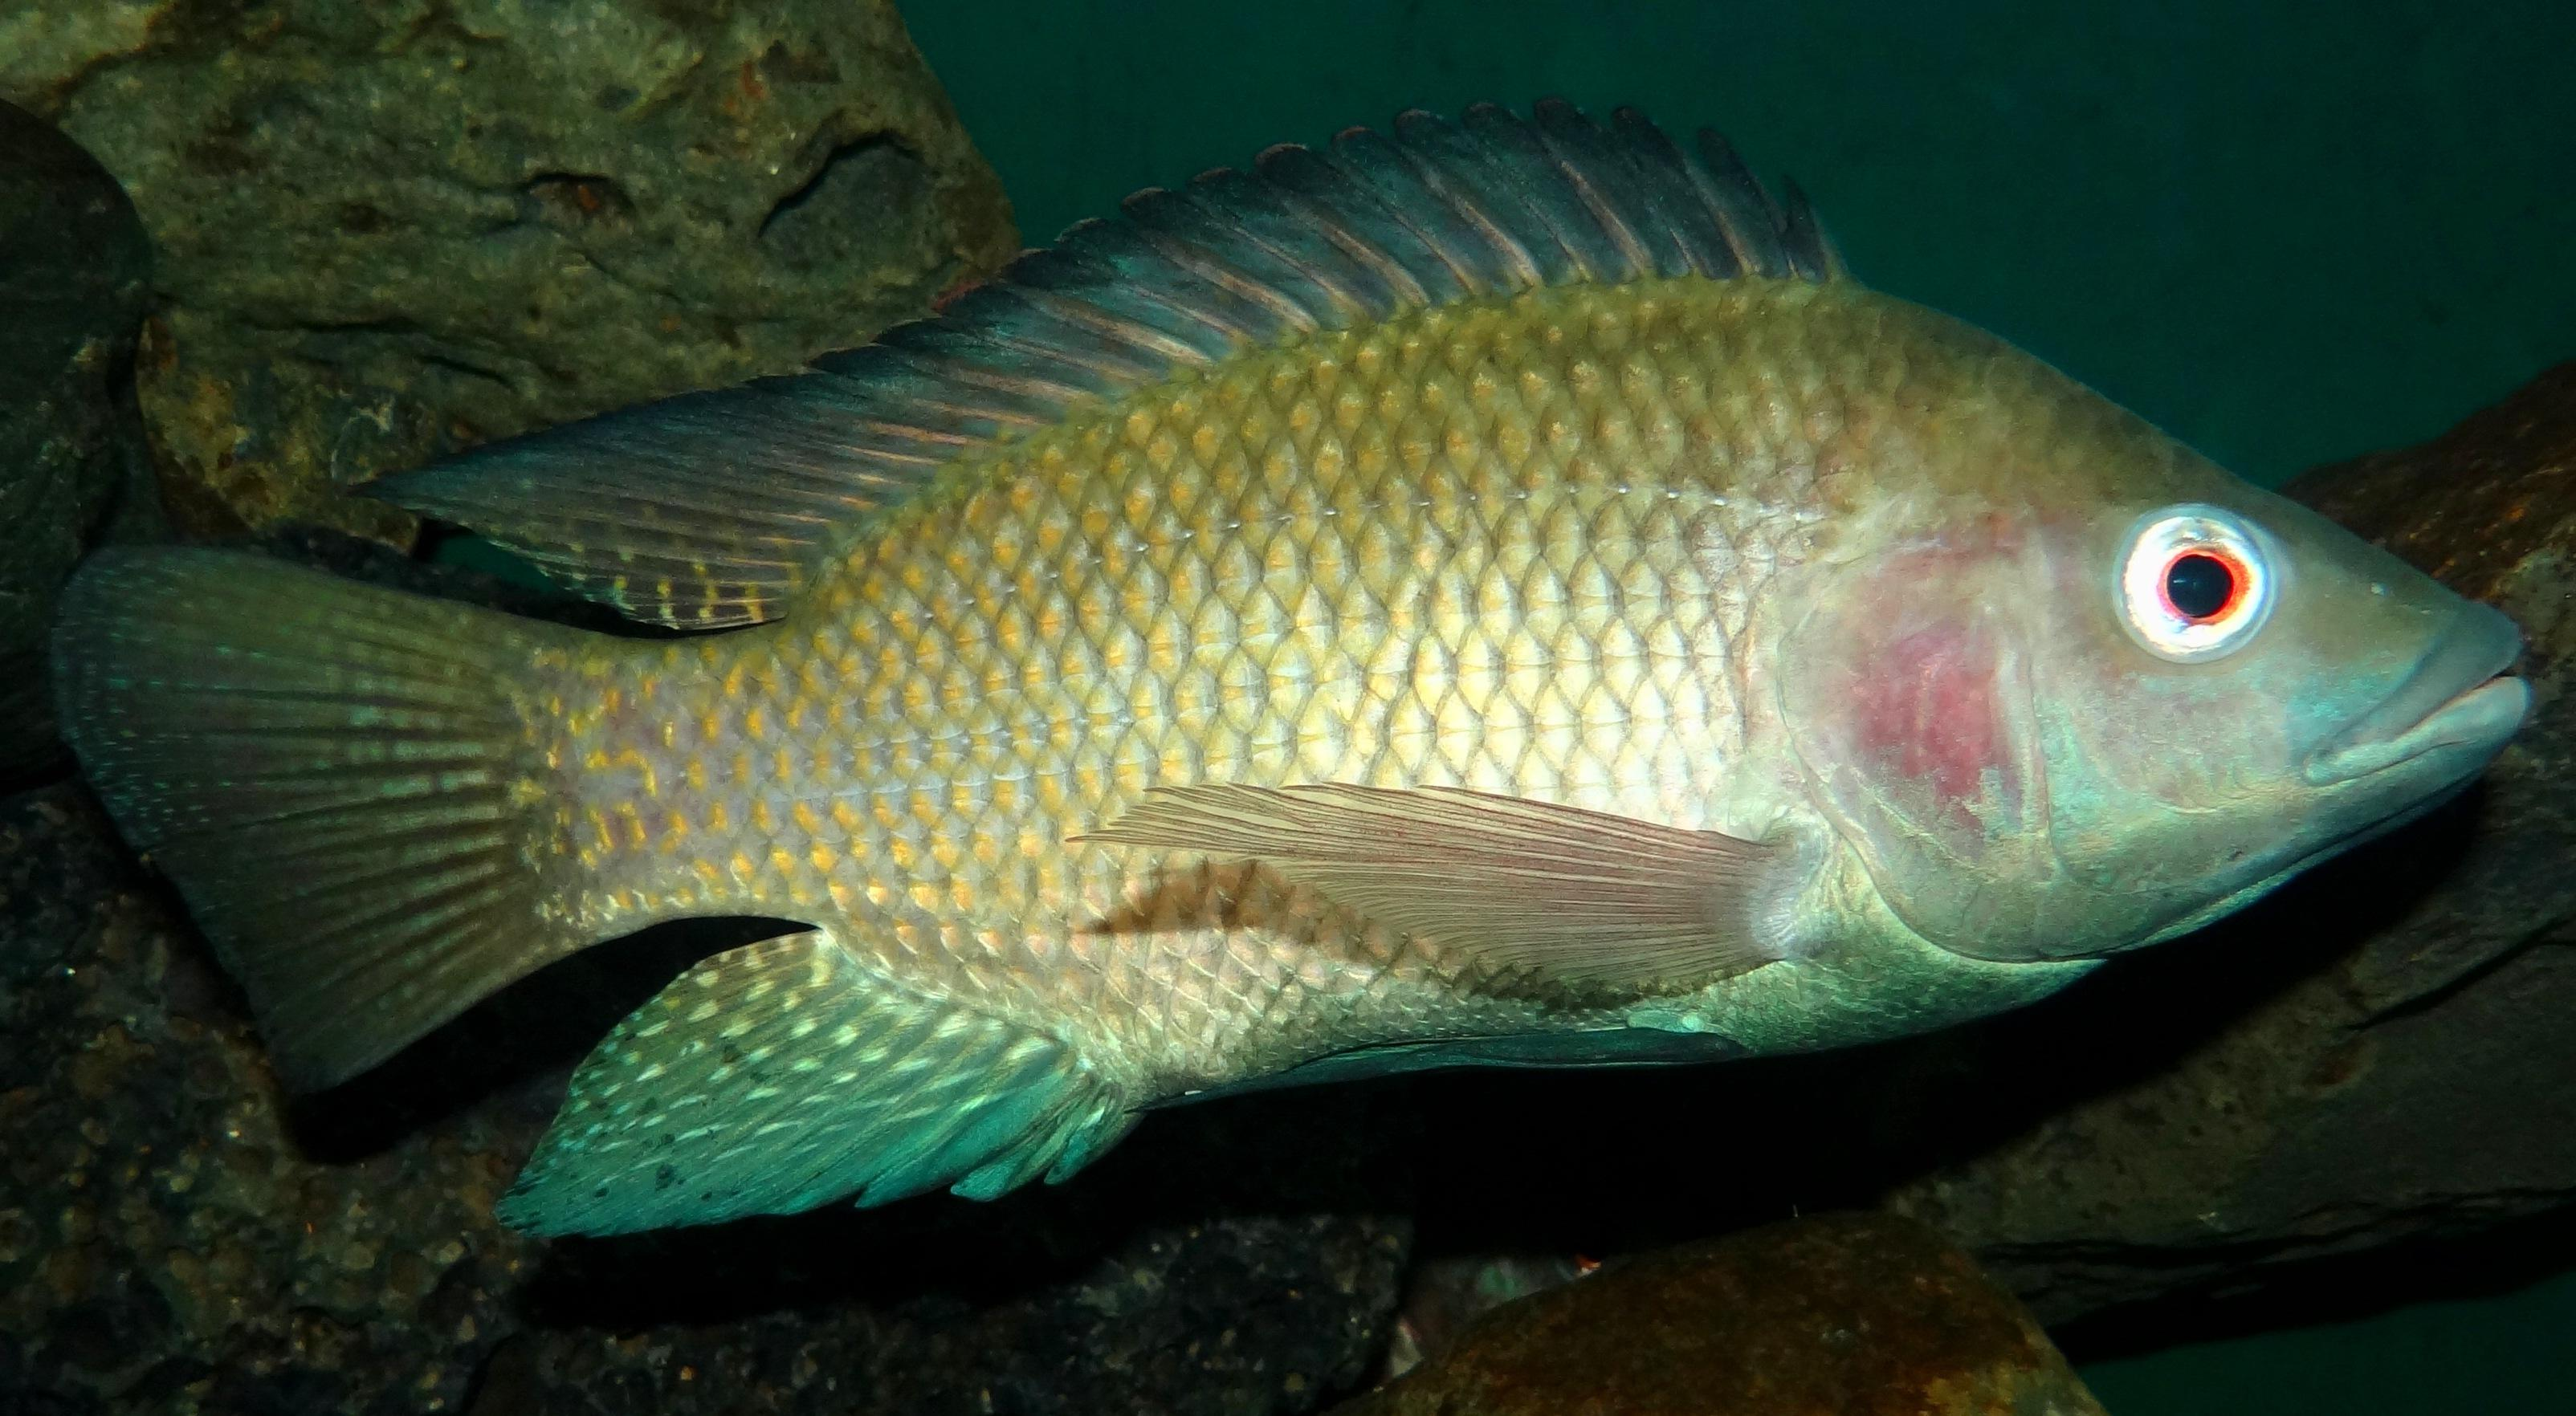Tilapia: (73, 96, 2529, 1256)
